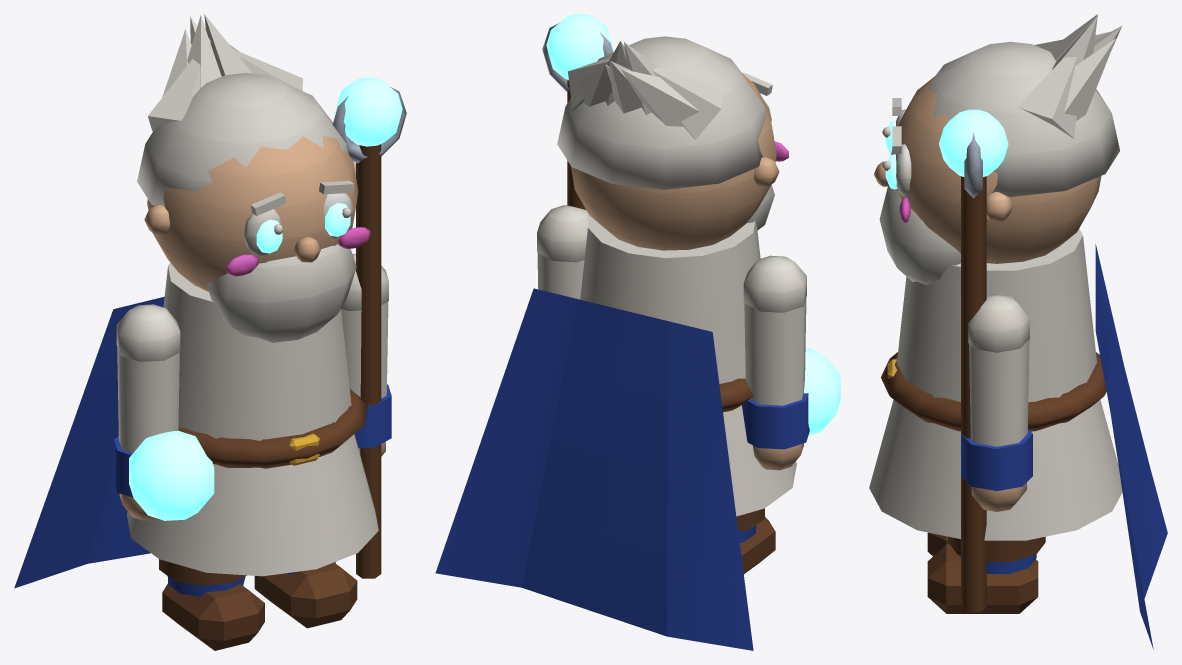
Rendered from hero_orin.glb.
The picture shows the model from 3 angles, left to right: view 1: azimuth 30°, elevation 25°; view 2: azimuth 150°, elevation 25°; view 3: azimuth 270°, elevation 25°; orthographic projection.
Visible parts, largest first — view 1: body_t0_palette, armr_t0_palette, arml_t0_palette, legl_t0_palette, arml_t0_rune, legr_t0_palette, armr_t0_rune, body_t0_rune; view 2: body_t0_palette, arml_t0_palette, armr_t0_palette, armr_t0_rune, arml_t0_rune, legl_t0_palette; view 3: body_t0_palette, armr_t0_palette, legr_t0_palette, armr_t0_rune, body_t0_rune.
Part boxes in pixels (x1,y1,x2,y2): body_t0_palette: (14,14,378,588); armr_t0_palette: (332,87,406,578); arml_t0_palette: (113,304,180,520); legl_t0_palette: (159,559,264,650); arml_t0_rune: (129,430,214,520); legr_t0_palette: (254,562,357,628); armr_t0_rune: (335,77,402,146); body_t0_rune: (256,203,350,253); body_t0_palette: (435,36,796,650); arml_t0_palette: (742,255,809,470); armr_t0_palette: (537,23,612,299); armr_t0_rune: (546,14,613,80); arml_t0_rune: (804,348,840,435); legl_t0_palette: (736,508,775,573); body_t0_palette: (869,14,1167,649); armr_t0_palette: (961,132,1032,612); legr_t0_palette: (927,536,1045,613); armr_t0_rune: (939,109,1008,176); body_t0_rune: (885,120,897,189).
Size of the model in its own units: 0.32 by 0.5391 by 0.257.
